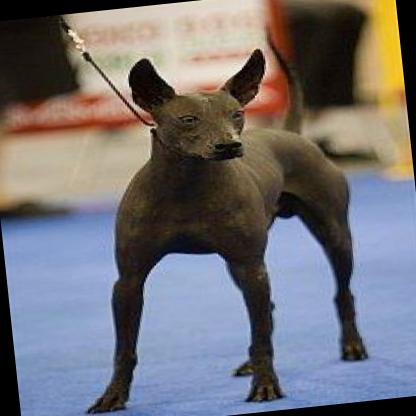Mexican_hairless: (43, 34, 373, 416)
